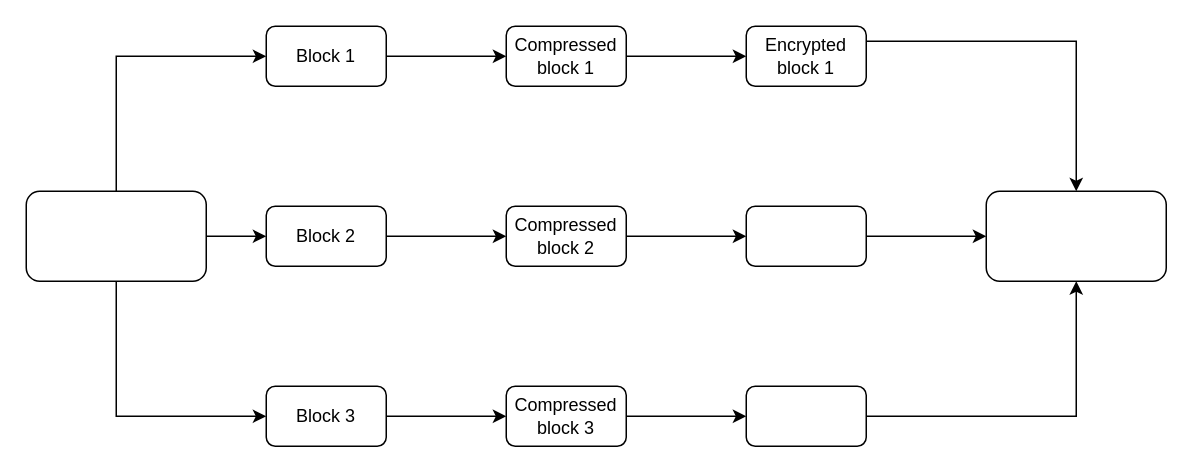
This 1193x473 diagram has some shape labels left out. The shapes that lost their labels are listed below. From the top down, each one's centre as x and y in pixels, then its label:
the point at 115,235: File
the point at 805,235: Encrypted block 2
the point at 1075,235: Cloud storage
the point at 805,415: Encrypted block 3
